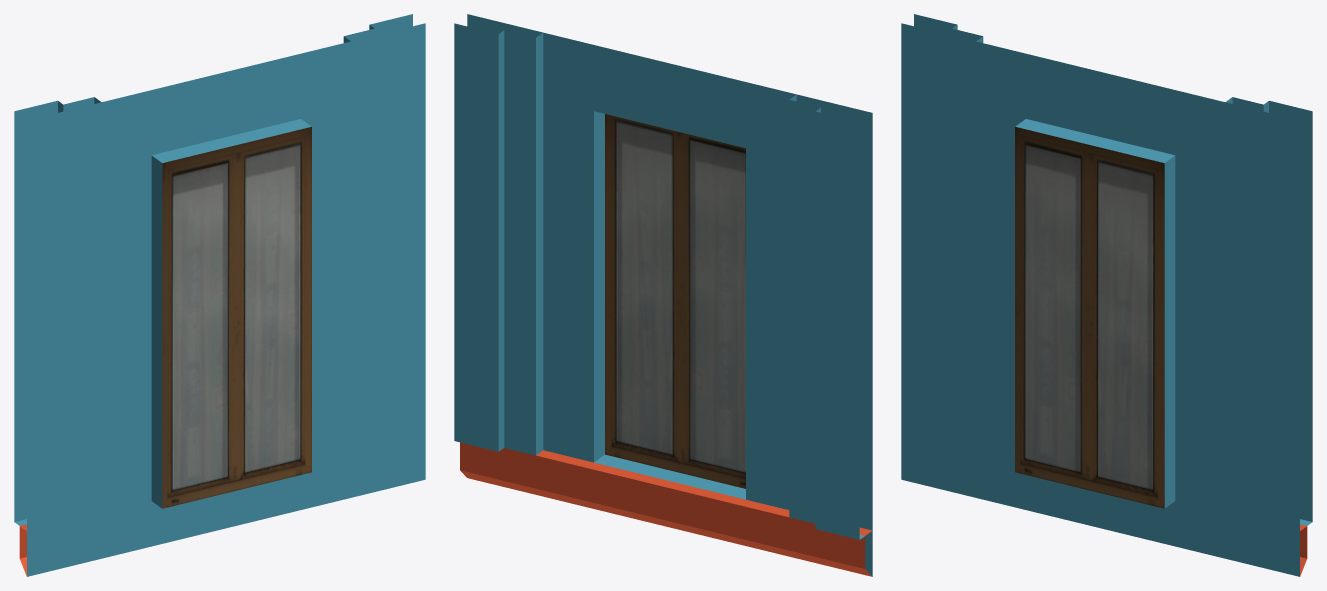
File: FacadeLastFloorBottomA.FBX
3 views of the same model, side by side, from view 1: azimuth 30°, elevation 25°; view 2: azimuth 150°, elevation 25°; view 3: azimuth 330°, elevation 25° (orthographic).
Parts seen in each view (by area): view 1: FacadeLastFloorBottomA_Wall, FacadeLastFloorBottomA_Window; view 2: FacadeLastFloorBottomA_Wall, FacadeLastFloorBottomA_Window; view 3: FacadeLastFloorBottomA_Wall, FacadeLastFloorBottomA_Window.
Boxes of the visible parts, x1,y1,x2,y2 form: FacadeLastFloorBottomA_Wall: [14, 14, 425, 576]; FacadeLastFloorBottomA_Window: [162, 126, 311, 508]; FacadeLastFloorBottomA_Wall: [454, 14, 872, 576]; FacadeLastFloorBottomA_Window: [605, 114, 745, 488]; FacadeLastFloorBottomA_Wall: [901, 14, 1312, 576]; FacadeLastFloorBottomA_Window: [1015, 126, 1164, 508].
Bounding box in the file's own units: 320 × 350 × 32.5.
